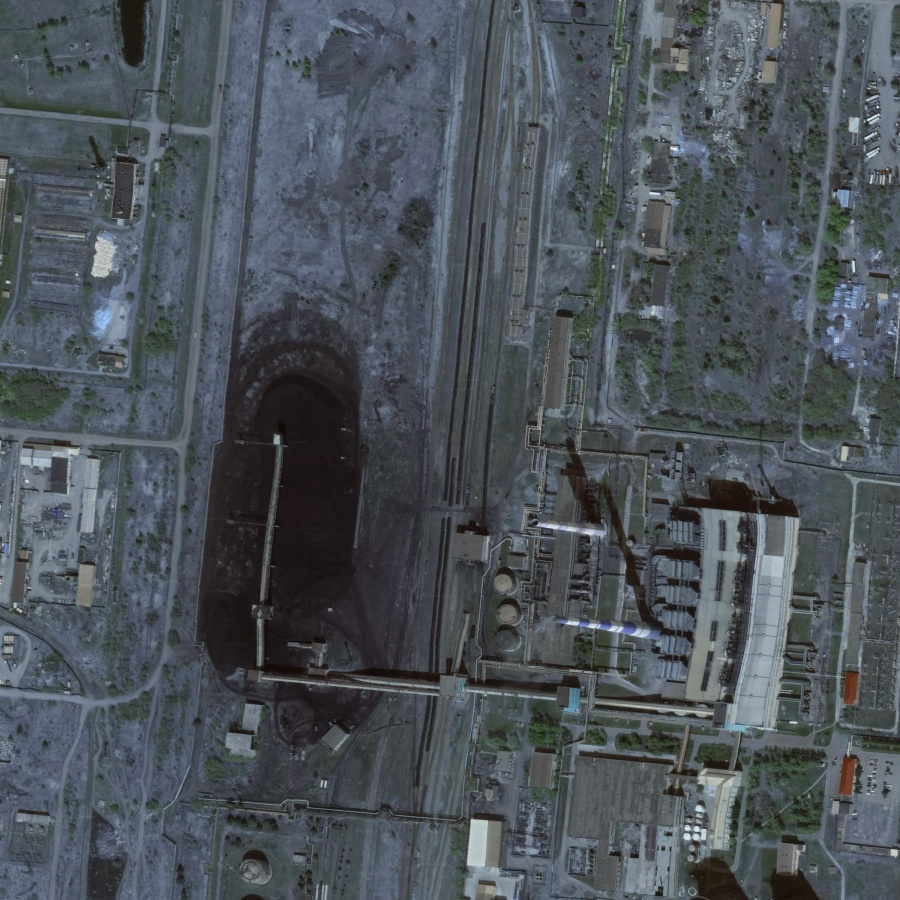PowerPlant: (188, 339, 506, 748), (512, 426, 701, 688)
